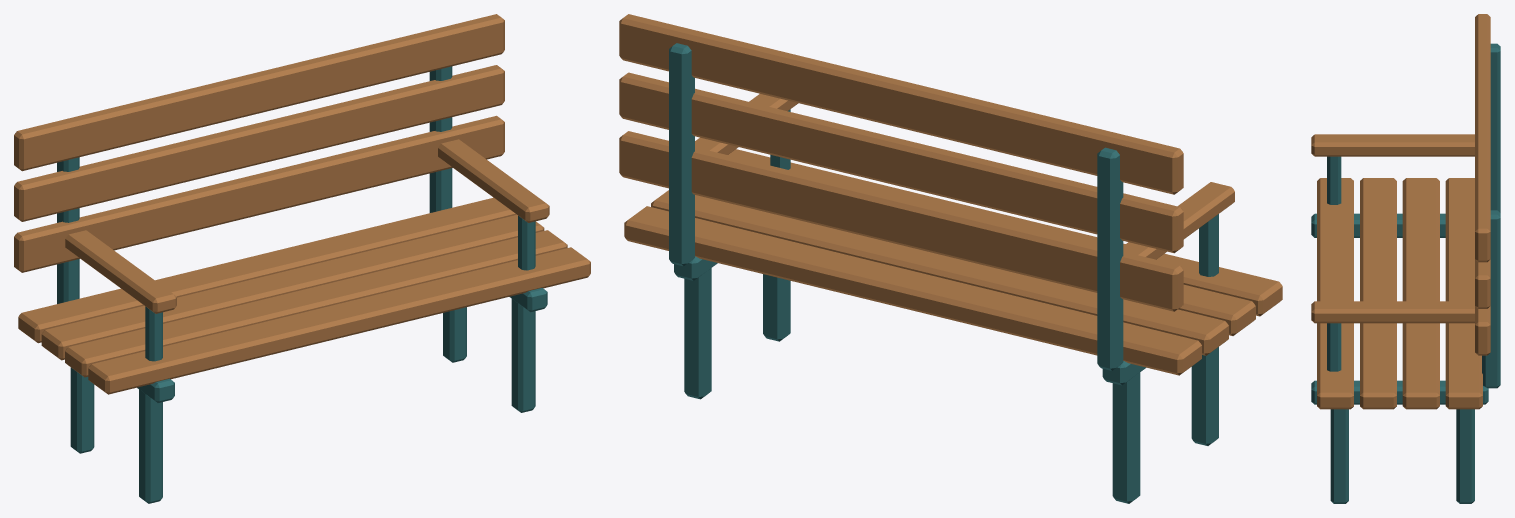
The model's file is HNP_Prop_StationBench_A.fbx.
The picture shows the model from 3 angles, left to right: view 1: azimuth 30°, elevation 25°; view 2: azimuth 150°, elevation 25°; view 3: azimuth 270°, elevation 25°; orthographic projection. The views are drawn at different scales.
Parts seen in each view (by area): view 1: HNP_Prop_StationBench_A; view 2: HNP_Prop_StationBench_A; view 3: HNP_Prop_StationBench_A.
Boxes of the visible parts, bbox=[...] form: HNP_Prop_StationBench_A: bbox=[14, 14, 590, 503]; HNP_Prop_StationBench_A: bbox=[619, 14, 1282, 503]; HNP_Prop_StationBench_A: bbox=[1311, 14, 1500, 503].
Bounding box in the file's own units: 180 × 114 × 66.25.
